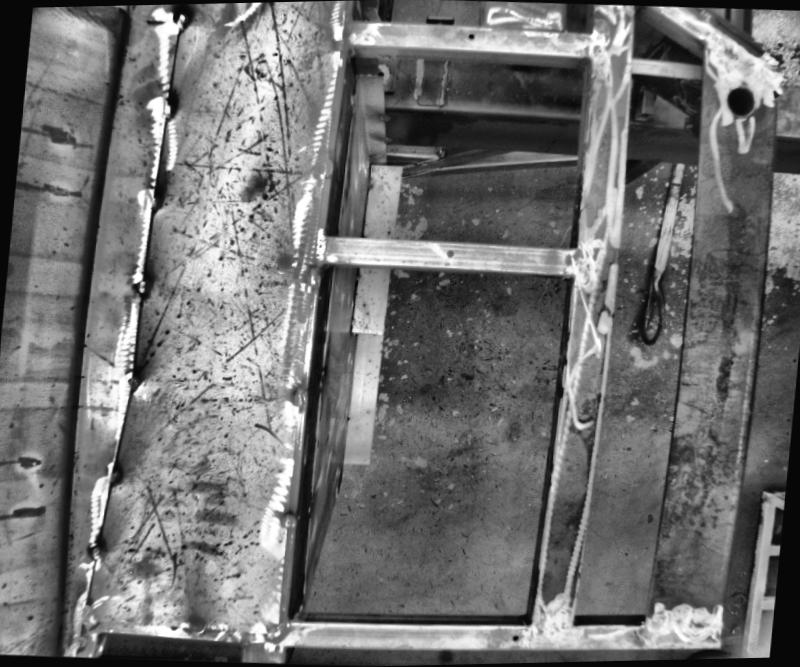hole: (720, 85, 756, 123), (444, 251, 452, 258), (510, 634, 518, 641), (466, 34, 474, 41)
